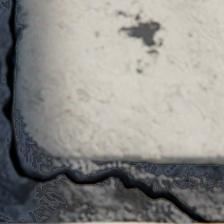brick: (15, 0, 223, 164), (0, 222, 166, 223), (15, 119, 19, 138)
crack: (1, 0, 223, 223)
